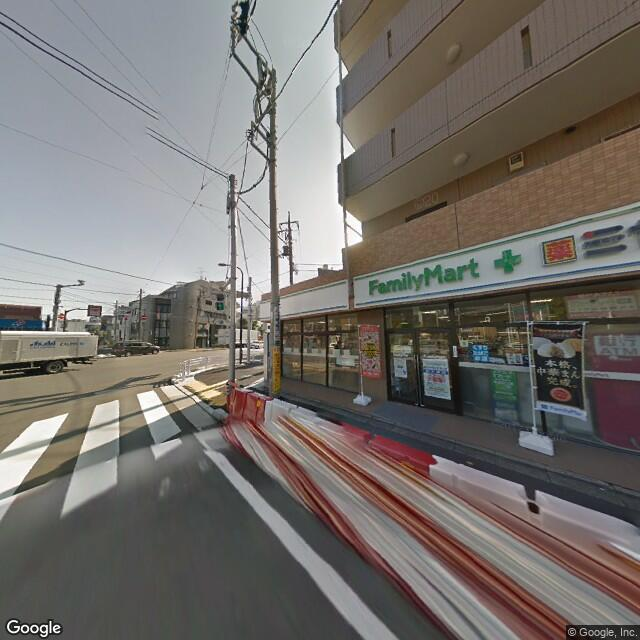family_mart: (364, 250, 487, 299)
